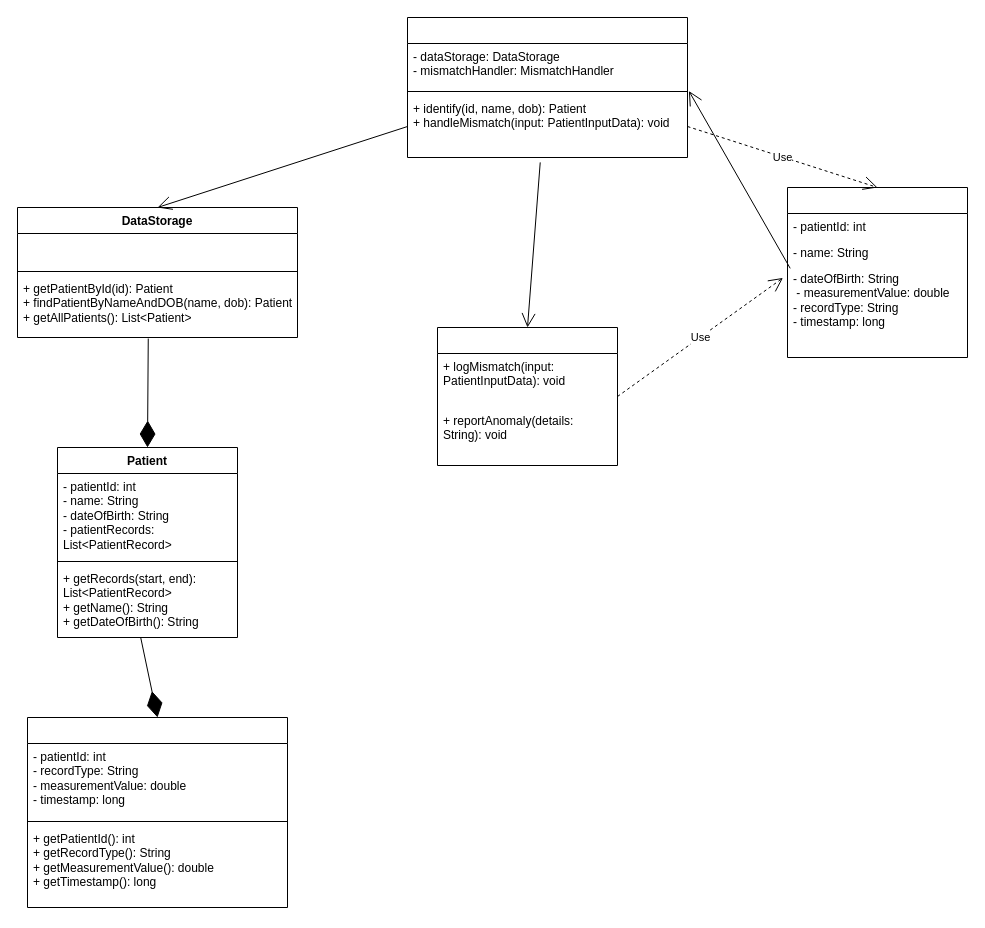
Some shapes in this 985 by 928 pixel diagram are drawn without their labels. Each missing label, with the box of its shape:
- patientMap: Map<Integer, Patient>: (17, 233, 297, 267)
MismacthHandler: (436, 326, 618, 466)
PatientIndetifier: (406, 16, 688, 158)
PatientInputData: (786, 186, 968, 358)
PatientRecord: (26, 716, 288, 908)
